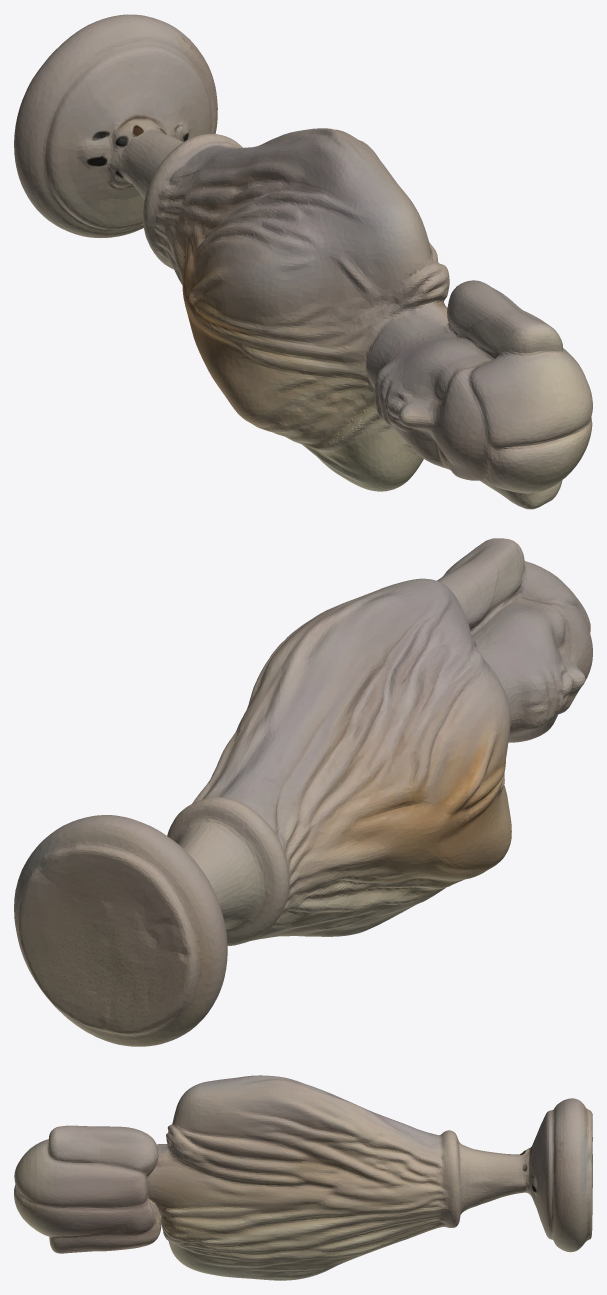
File: princess-leia-bust.glb
3 renders of one model, top to bottom at view 1: azimuth 30°, elevation 25°; view 2: azimuth 150°, elevation 25°; view 3: azimuth 270°, elevation 25°, orthographic. The views are drawn at different scales.
Visible parts, largest first — view 1: princess leia bust_textured.obj; view 2: princess leia bust_textured.obj; view 3: princess leia bust_textured.obj.
Part boxes in pixels (x1,y1,x2,y2): princess leia bust_textured.obj: (14,14,592,509); princess leia bust_textured.obj: (14,538,592,1046); princess leia bust_textured.obj: (14,1075,592,1280).
Size of the model in its own units: 0.6078 by 0.7558 by 1.99.
1 material, 1 textured.
